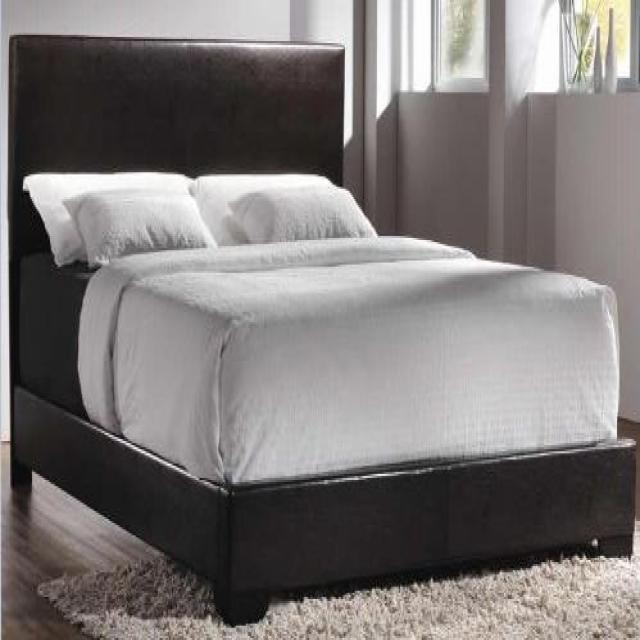bed: (7, 30, 636, 626)
